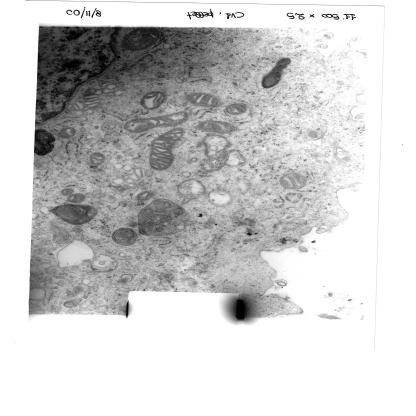mitochondria: (147, 128, 185, 170), (124, 110, 188, 134), (121, 27, 160, 53), (184, 92, 223, 108), (278, 171, 308, 190), (197, 120, 238, 133), (141, 90, 166, 110), (223, 102, 248, 116), (87, 152, 105, 166), (57, 127, 76, 138), (66, 193, 86, 203), (60, 187, 75, 196)
